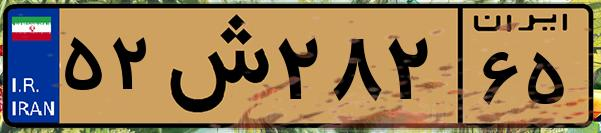2: (270, 28, 330, 110), (385, 28, 445, 110), (110, 28, 158, 98)
5: (57, 26, 110, 100), (525, 38, 570, 115)
6: (475, 38, 525, 113)
8: (330, 28, 385, 110)
ش: (158, 12, 270, 120)
